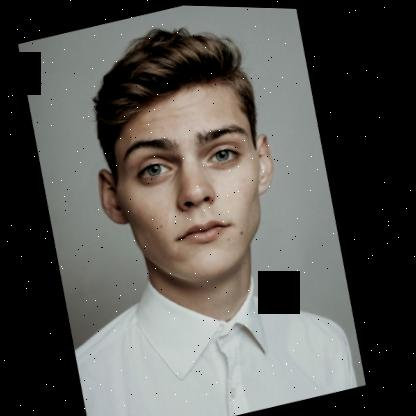Male: (74, 63, 306, 300)
